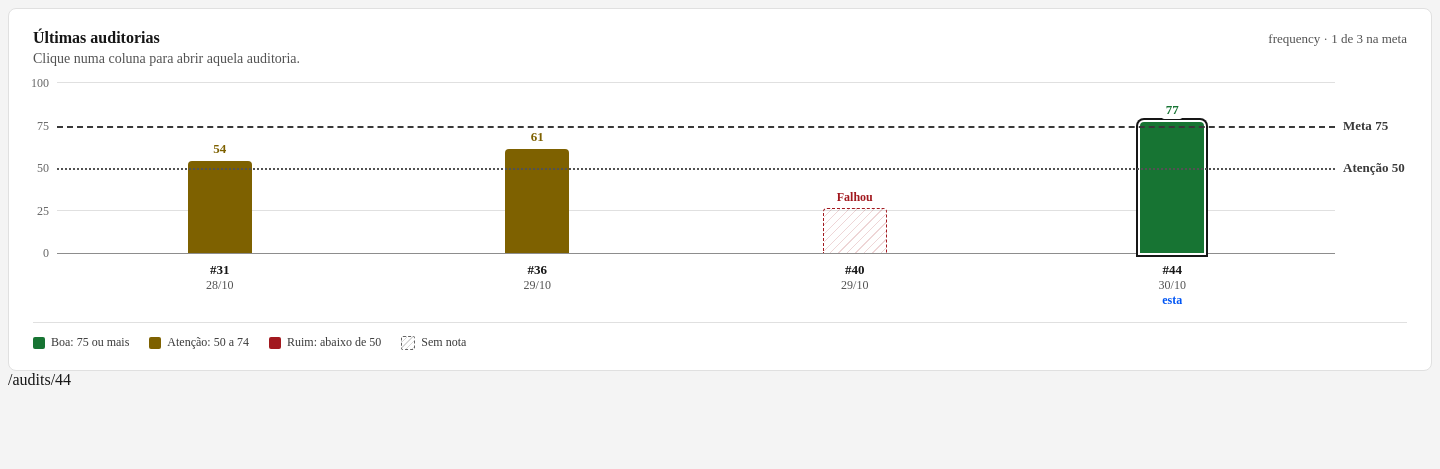
Test: AuditHistoryChart › a dica mostra nota, distância da meta, variação e críticos ao focar a coluna
Focus the link named "Abrir a auditoria 36" at (537, 168), box left=505, top=83, right=569, bottom=253
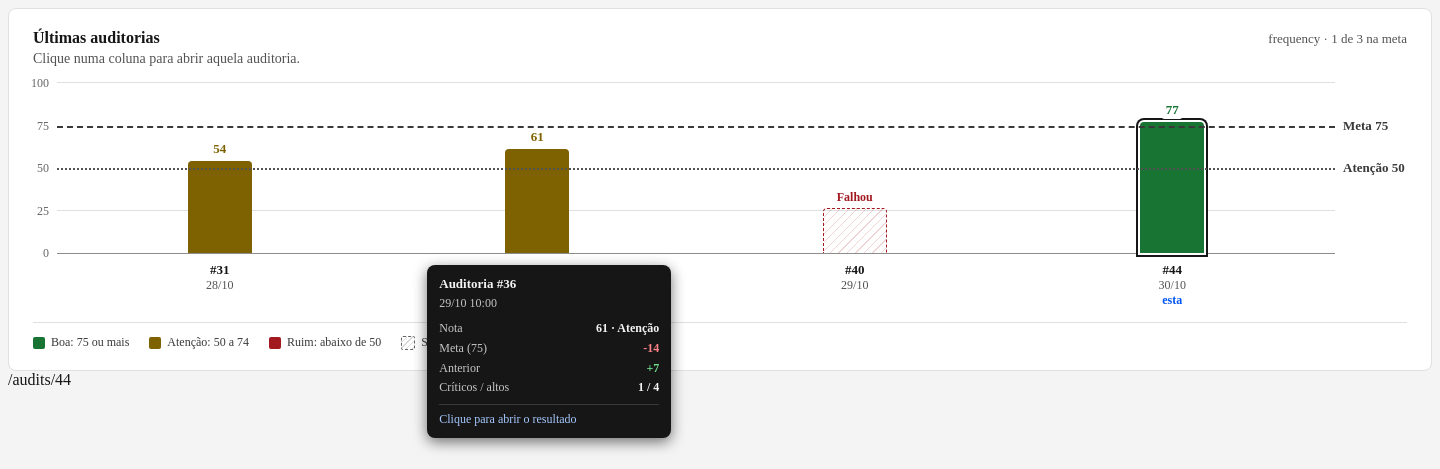
Now the message shows "Auditoria #36", box left=427, top=265, right=671, bottom=438
Now the message shows "Clique para abrir o resultado", box left=439, top=412, right=577, bottom=426
Leave the link named "Abrir a auditoria 36", box left=505, top=83, right=569, bottom=253
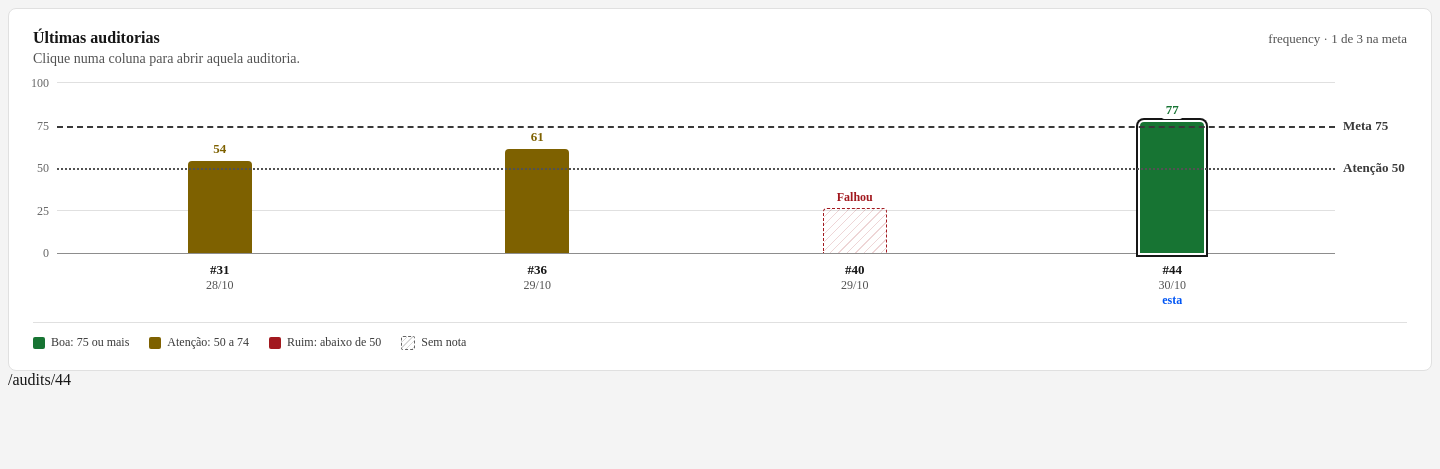
Now the message is gone
